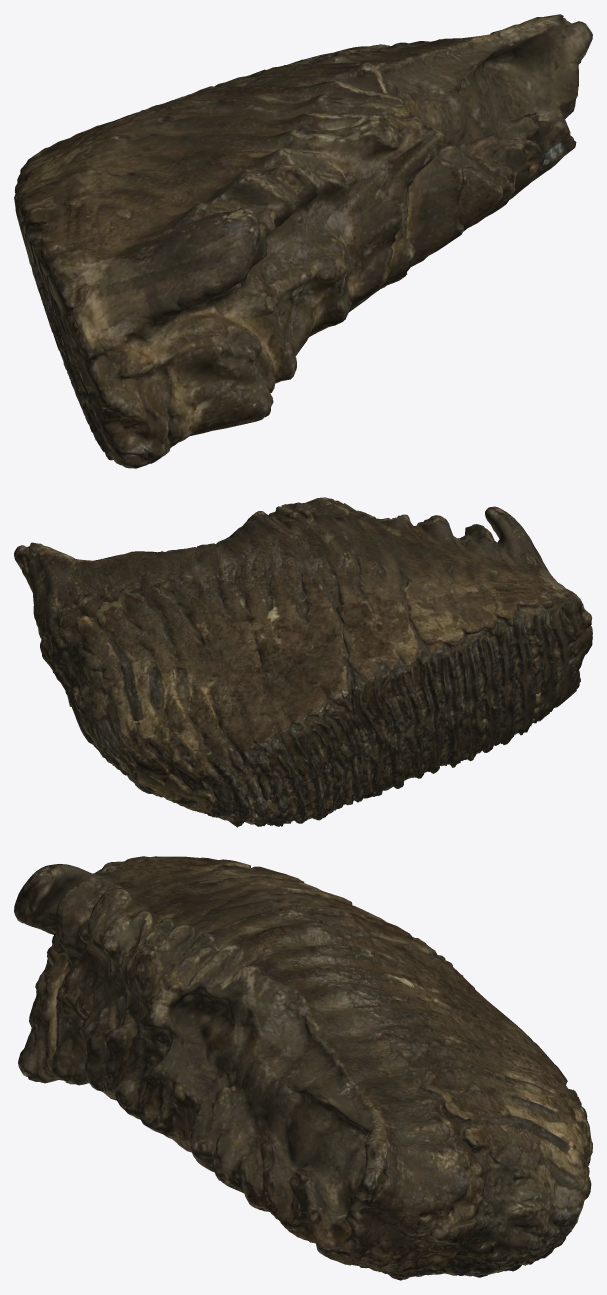
File: mammoth-molar.glb
The picture shows the model from 3 angles, top to bottom: view 1: azimuth 30°, elevation 25°; view 2: azimuth 150°, elevation 25°; view 3: azimuth 270°, elevation 25°; orthographic projection. The views are drawn at different scales.
Bounding box in the file's own units: 251 × 118 × 192.
1 material, 1 textured.
